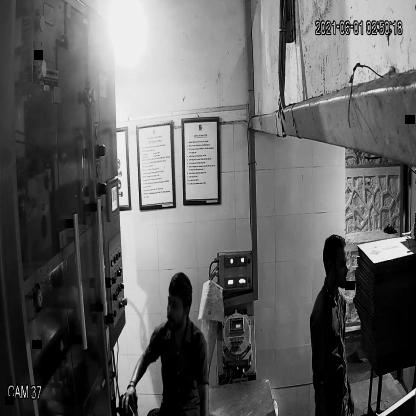no_goggles: (161, 292, 190, 317), (323, 250, 351, 274)
